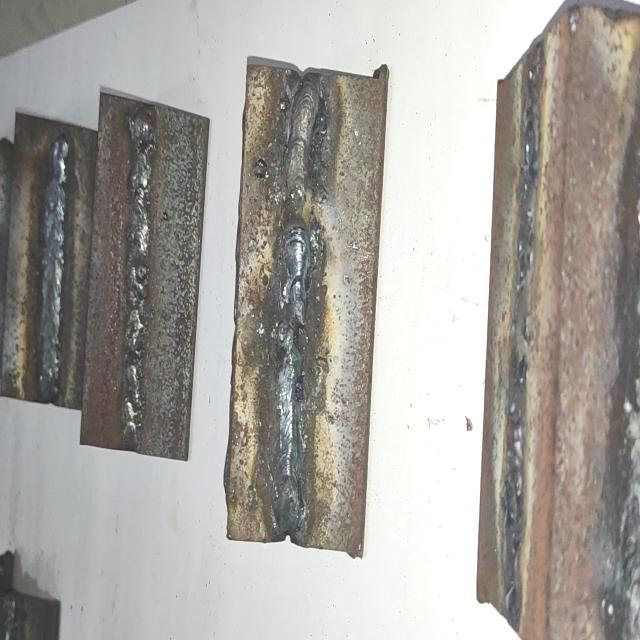Bad Weld: (280, 77, 322, 529)
Defect: (274, 154, 324, 260), (276, 284, 312, 400)
Good Weld: (122, 110, 154, 442), (37, 129, 69, 396)
